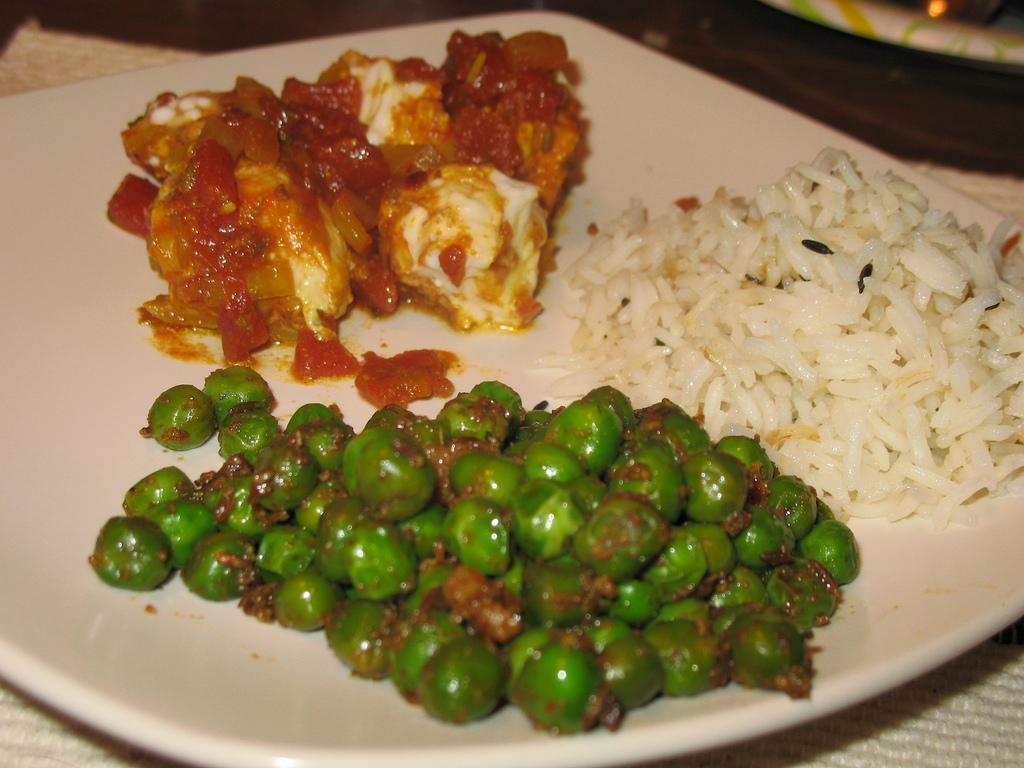boiled peas: (401, 425, 768, 699)
plain rice: (699, 204, 1006, 414)
